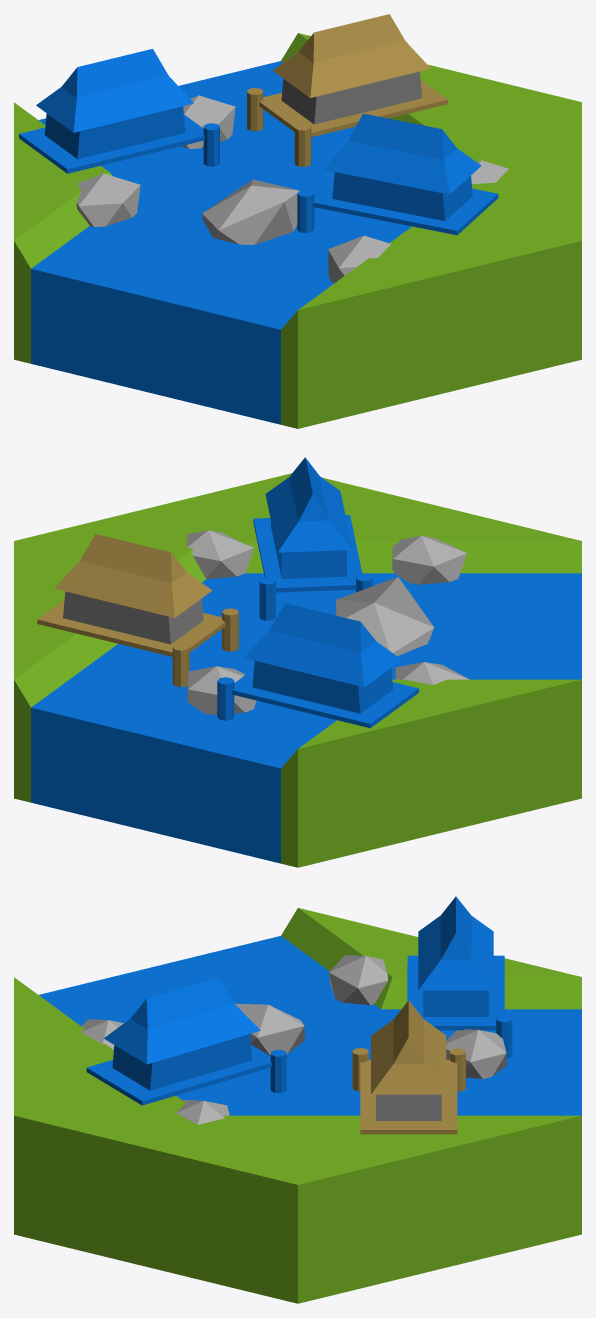
File: Casas_Rio_Curva_3.fbx
3 renders of one model, top to bottom at view 1: azimuth 30°, elevation 25°; view 2: azimuth 150°, elevation 25°; view 3: azimuth 270°, elevation 25°, orthographic.
Visible parts, largest first — view 1: Casas_Rio_Curva_3; view 2: Casas_Rio_Curva_3; view 3: Casas_Rio_Curva_3.
Part boxes in pixels (left/top/right/bottom): Casas_Rio_Curva_3: left=14, top=14, right=581, bottom=428; Casas_Rio_Curva_3: left=14, top=457, right=581, bottom=867; Casas_Rio_Curva_3: left=14, top=896, right=581, bottom=1303.
Bounding box in the file's own units: 200 × 67.29 × 173.
